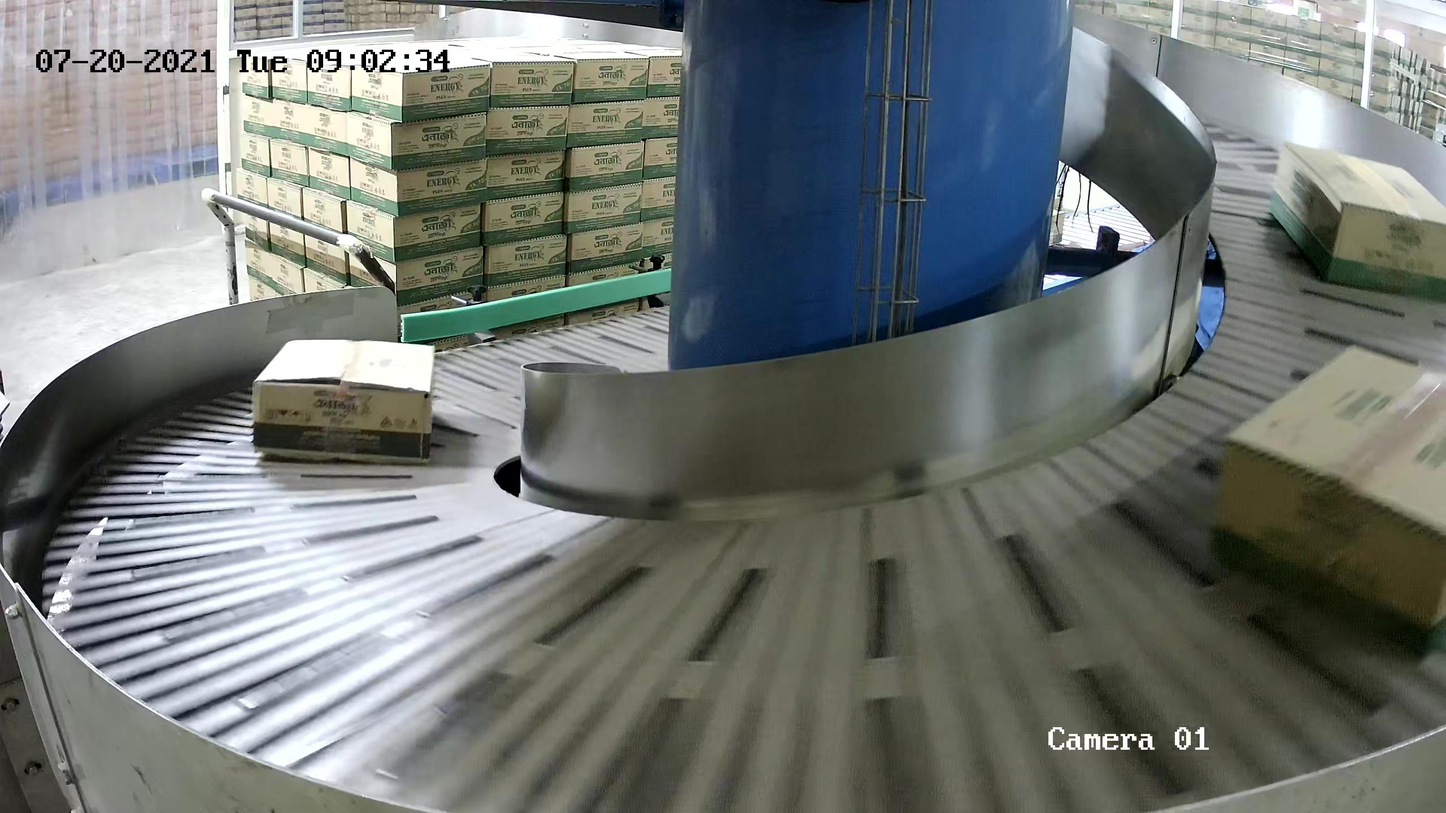Box: (1207, 344, 1446, 662), (1267, 140, 1446, 308), (250, 338, 437, 466)
